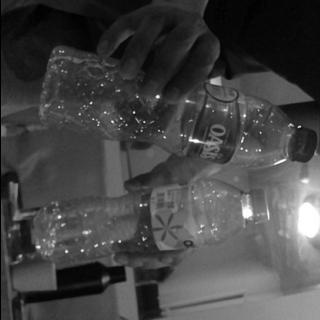plastic_bottles: (39, 46, 316, 166), (34, 178, 268, 270)
